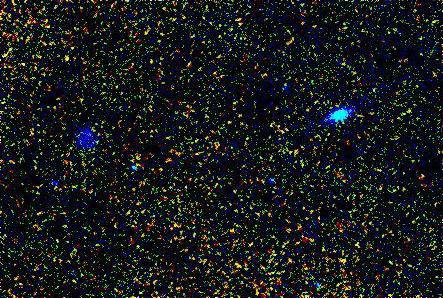star: (57, 45, 87, 75)
